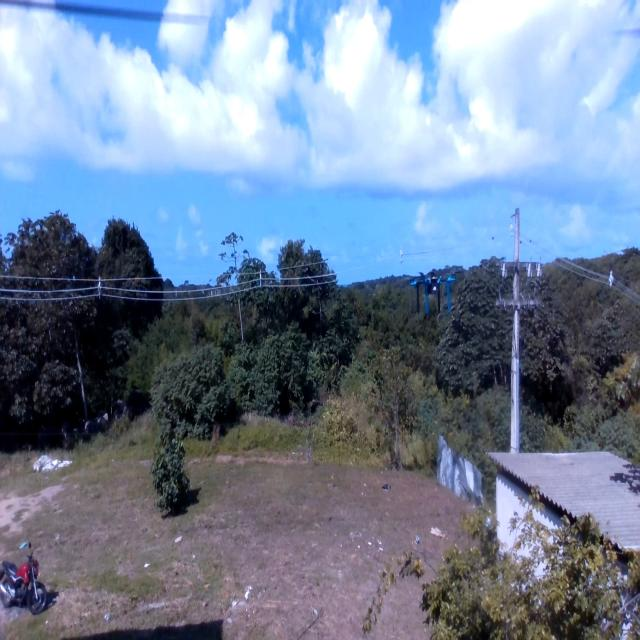-uav-: (405, 258, 461, 330)
